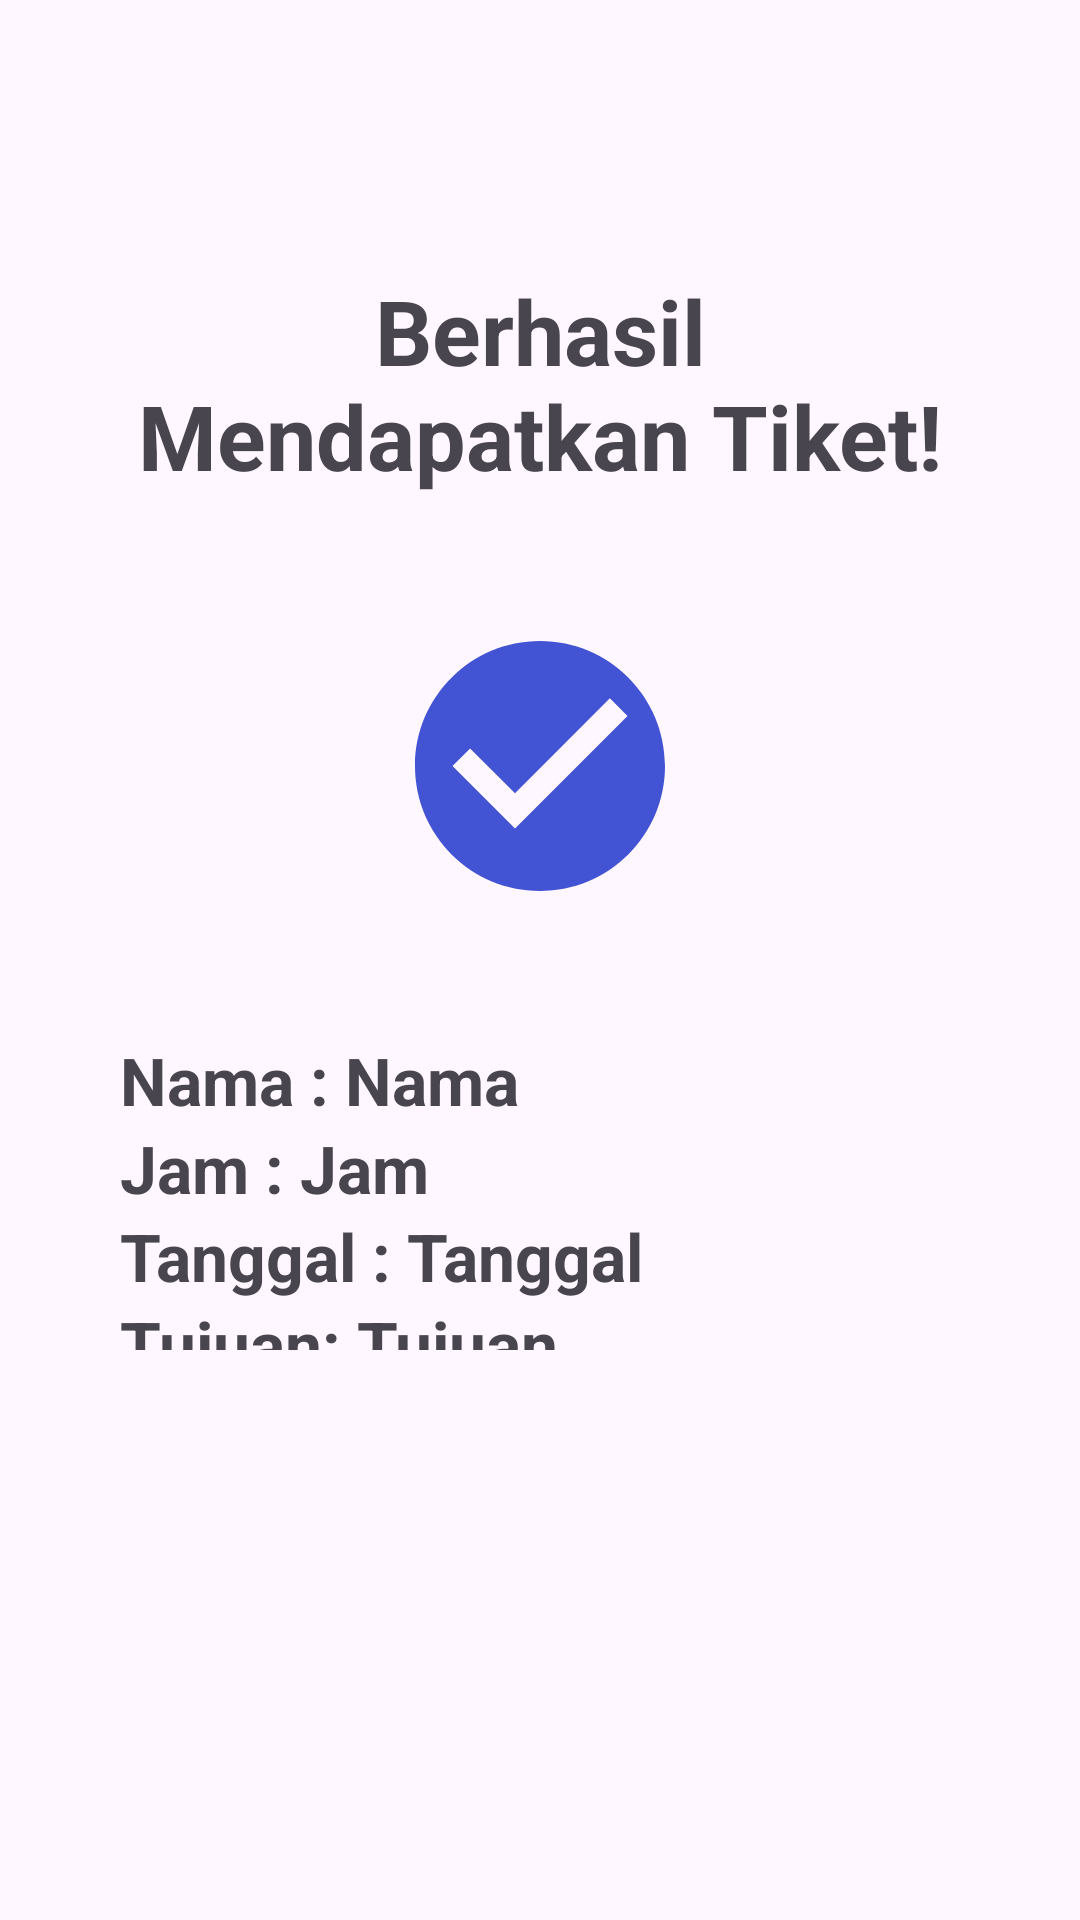

Where icons sit on this 1080*1920 app screen, as detection(x1, y1, x2, y2):
check circle: detection(415, 641, 665, 891)
